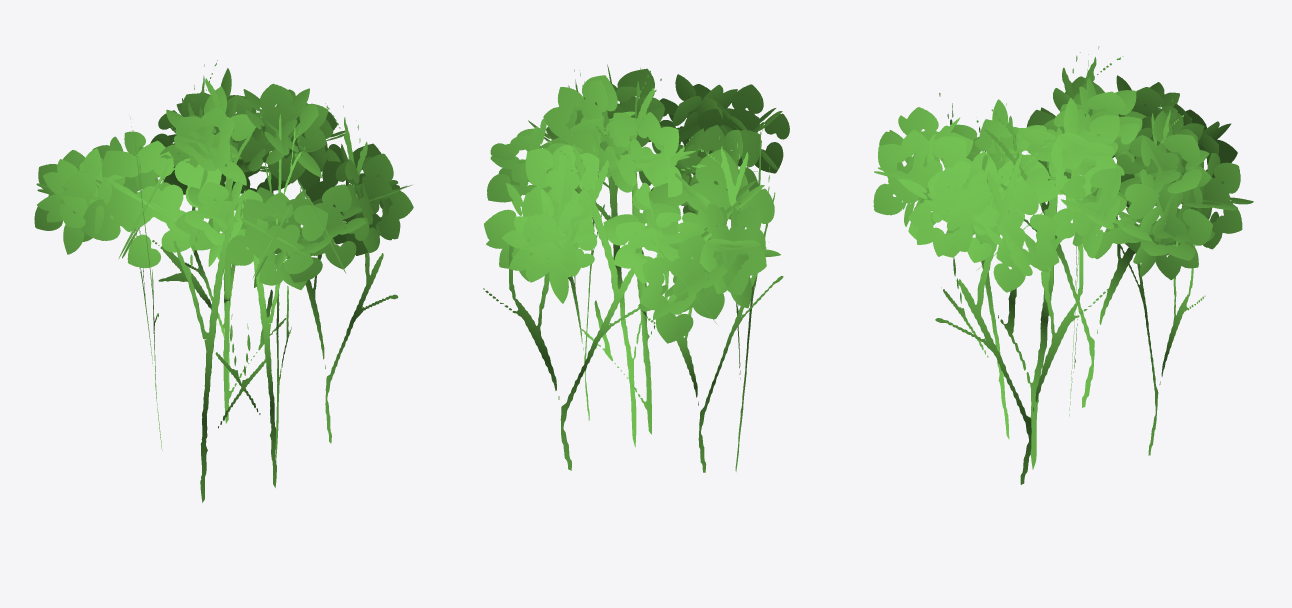
The model's file is sn-stylised-bush-2.glb.
3 views of the same model, side by side, from view 1: azimuth 30°, elevation 25°; view 2: azimuth 150°, elevation 25°; view 3: azimuth 270°, elevation 25° (orthographic). The views are drawn at different scales.
Parts seen in each view (by area): view 1: StylisedBush2; view 2: StylisedBush2; view 3: StylisedBush2.
Part boxes in pixels (bbox=[...]): StylisedBush2: bbox=[34, 60, 413, 502]; StylisedBush2: bbox=[483, 64, 789, 472]; StylisedBush2: bbox=[873, 46, 1253, 484].
Bounding box in the file's own units: 2.53 × 3.57 × 2.75.
Materials: 1 (1 with a texture image).
